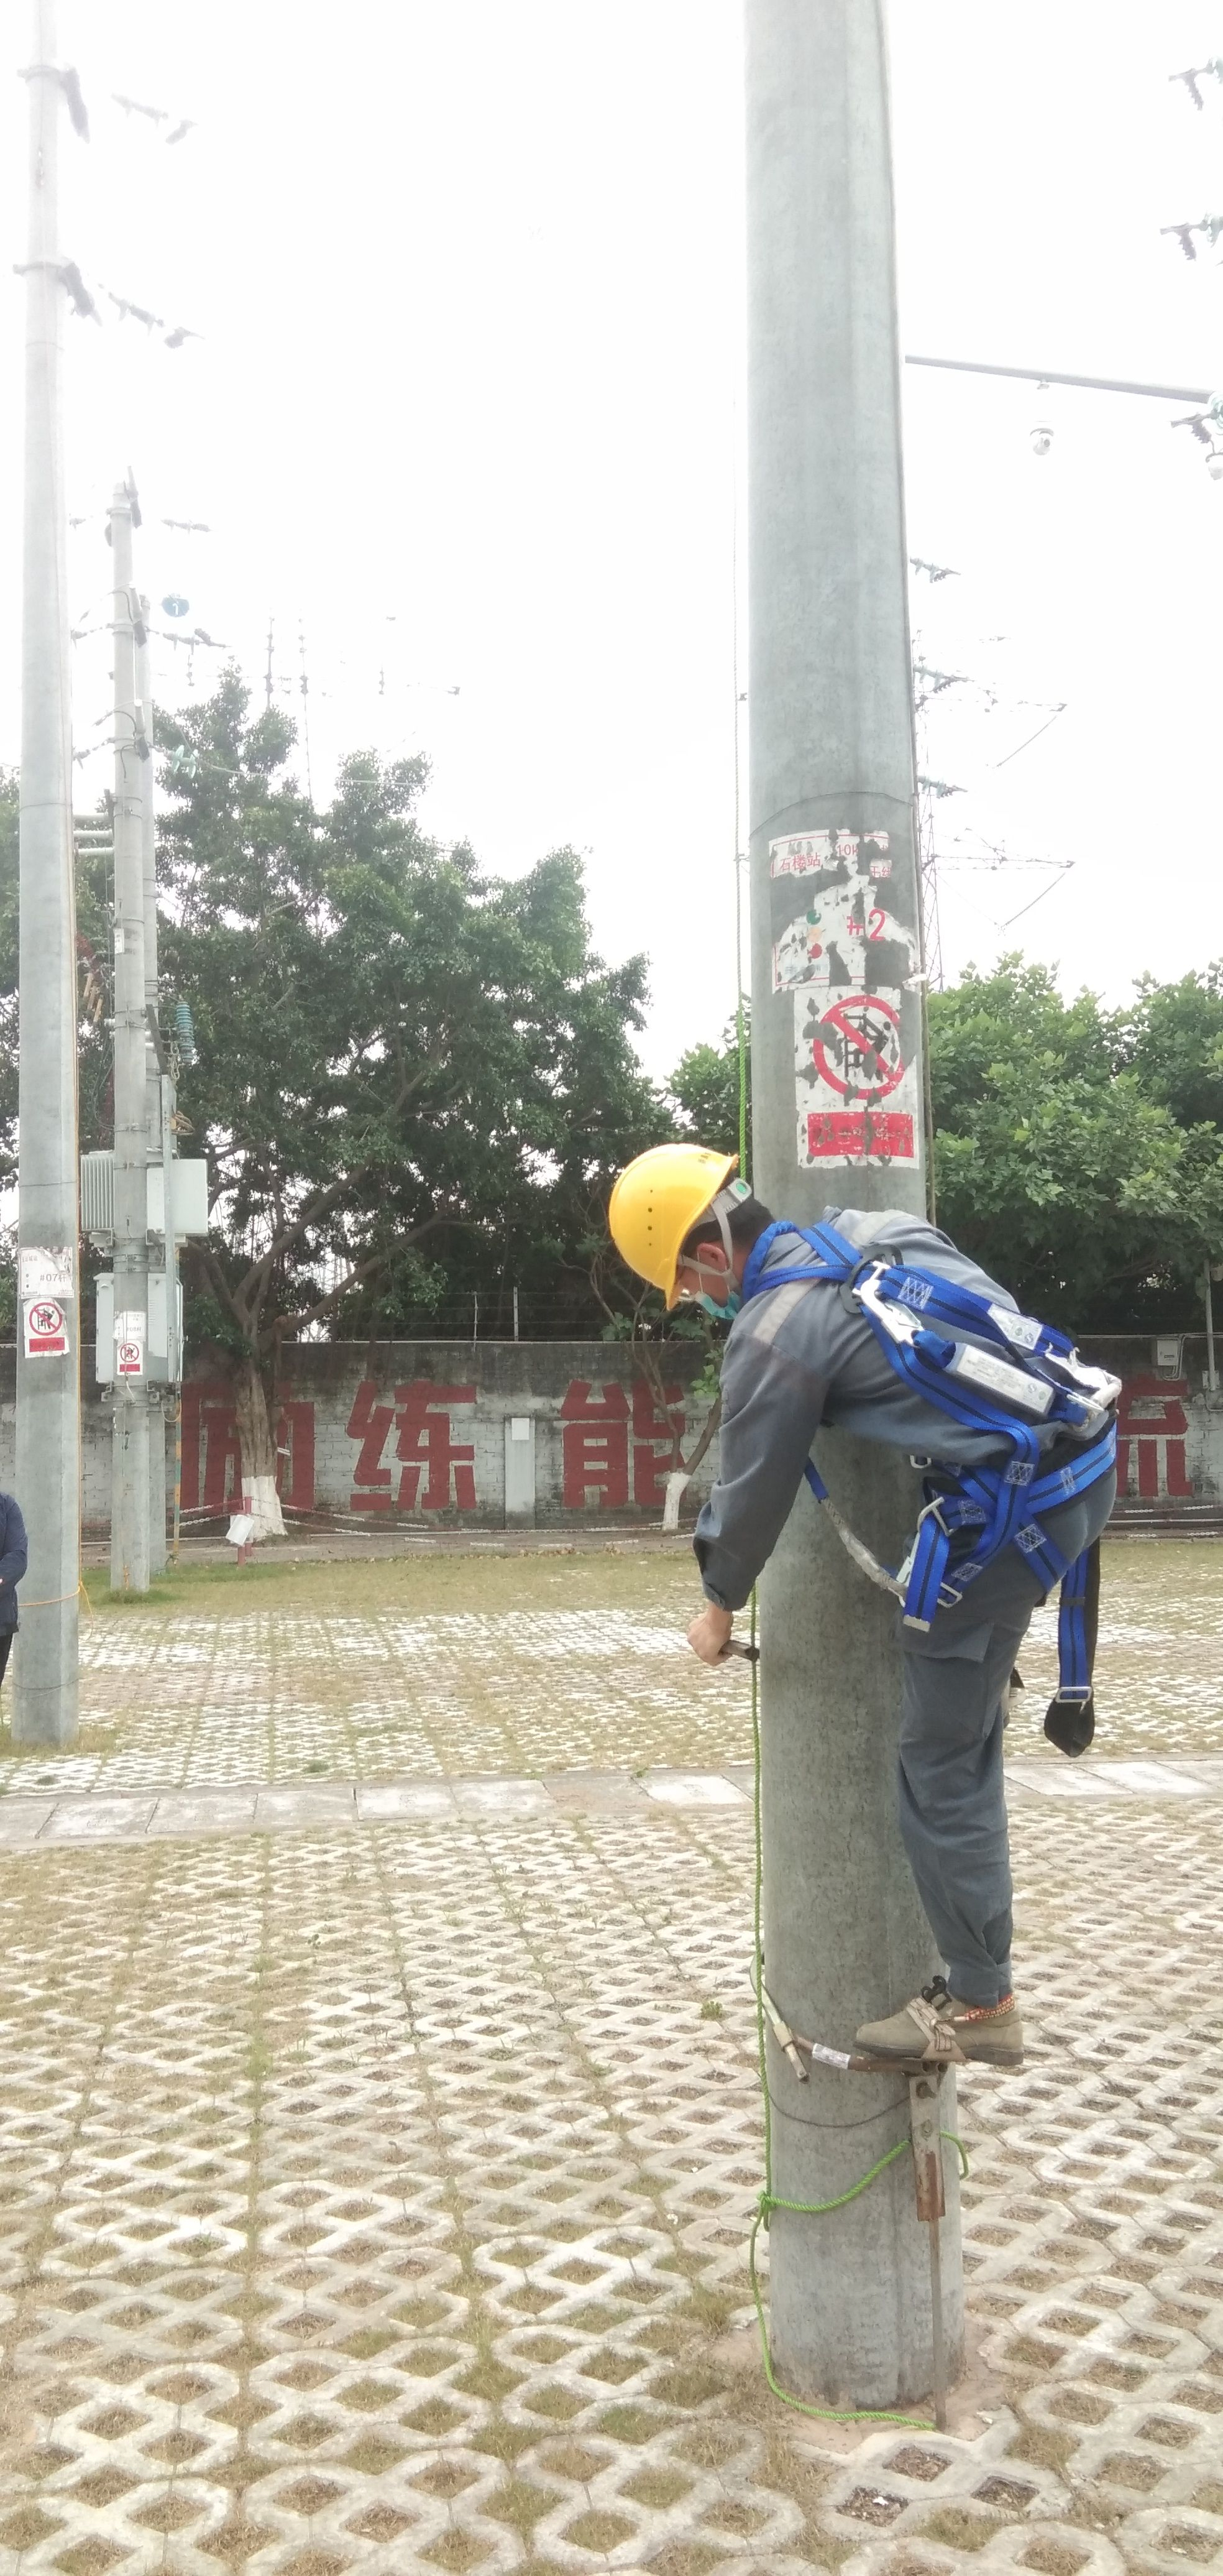downsuit: (913, 1487, 1062, 1996)
upsuit: (727, 1201, 1080, 1472)
